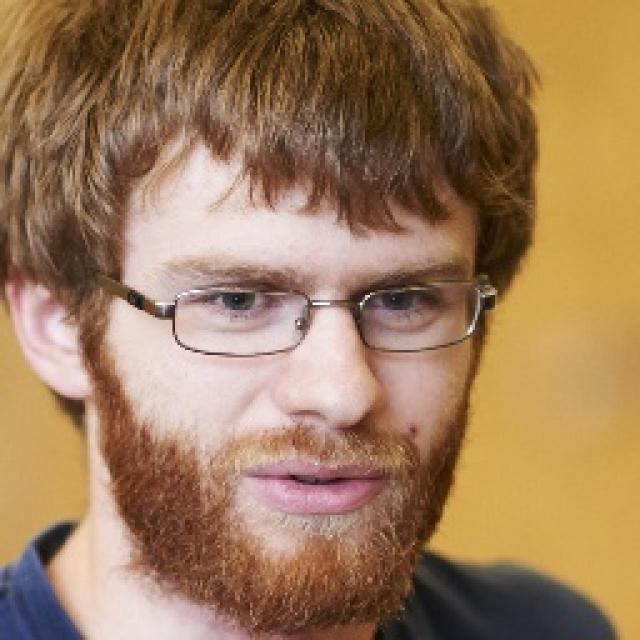earlobe: (58, 346, 98, 402)
eye: (196, 284, 280, 316), (366, 284, 436, 315)
nose: (274, 397, 398, 474)
wholeear: (0, 242, 95, 400)
